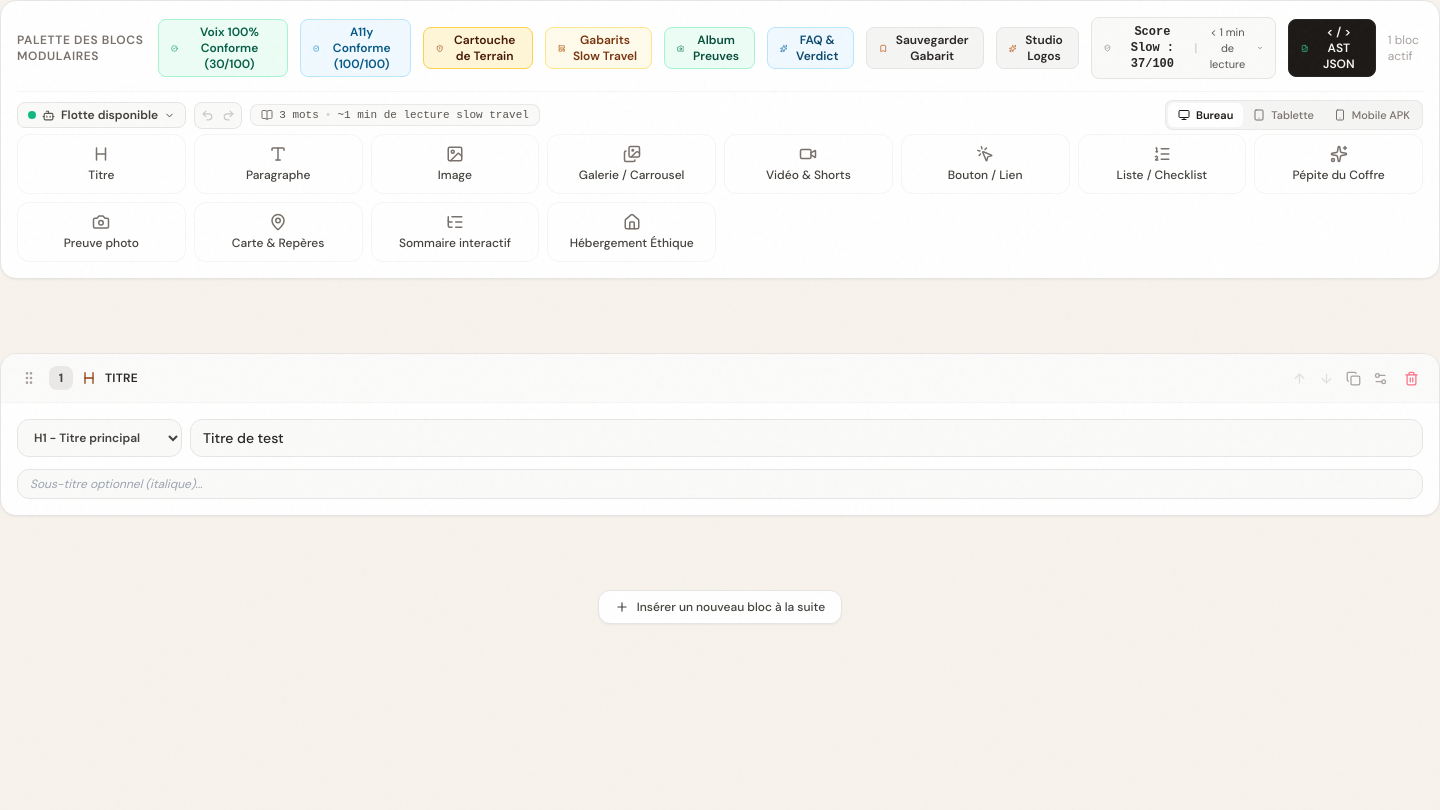
Test: CMS 3.0 Sanity Killer — Hotspot & Visual Click-to-Edit › BlockCanvas propose le simulateur responsive (Mobile APK, Tablette, Bureau)
The image size is (1440, 810).
Bascule en vue Mobile APK
Step 1. Click the button "Mobile APK" → (1372,115), box x1=1324 y1=103 x2=1420 y2=127
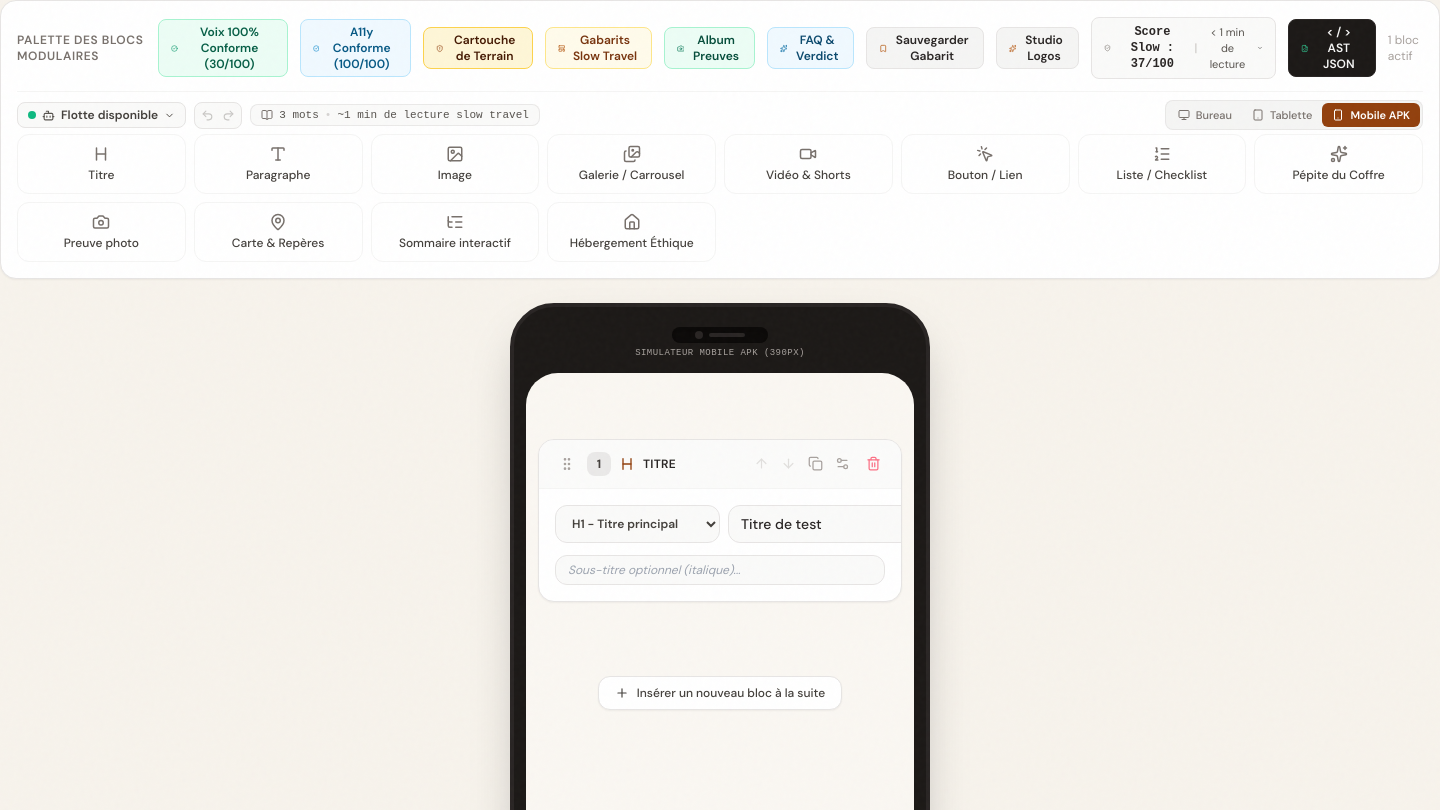
Expected: the text "Simulateur Mobile APK (390px)" is shown, x1=635 y1=347 x2=805 y2=360
Bascule en vue Tablette
Step 2. Click the button "Tablette" → (1282,115), box x1=1242 y1=103 x2=1322 y2=127
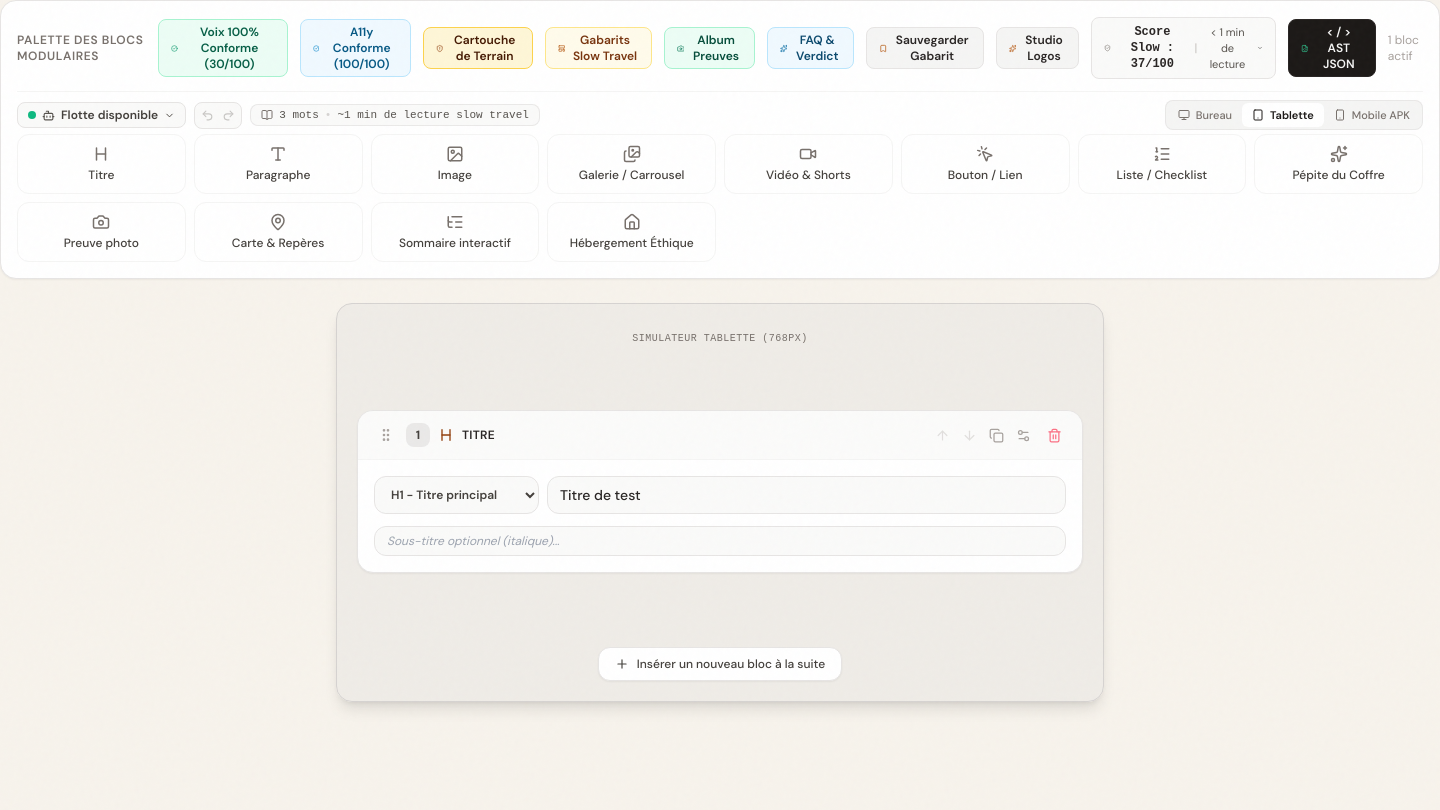
Expected: the text "Simulateur Tablette (768px)" is shown, x1=632 y1=333 x2=808 y2=344
